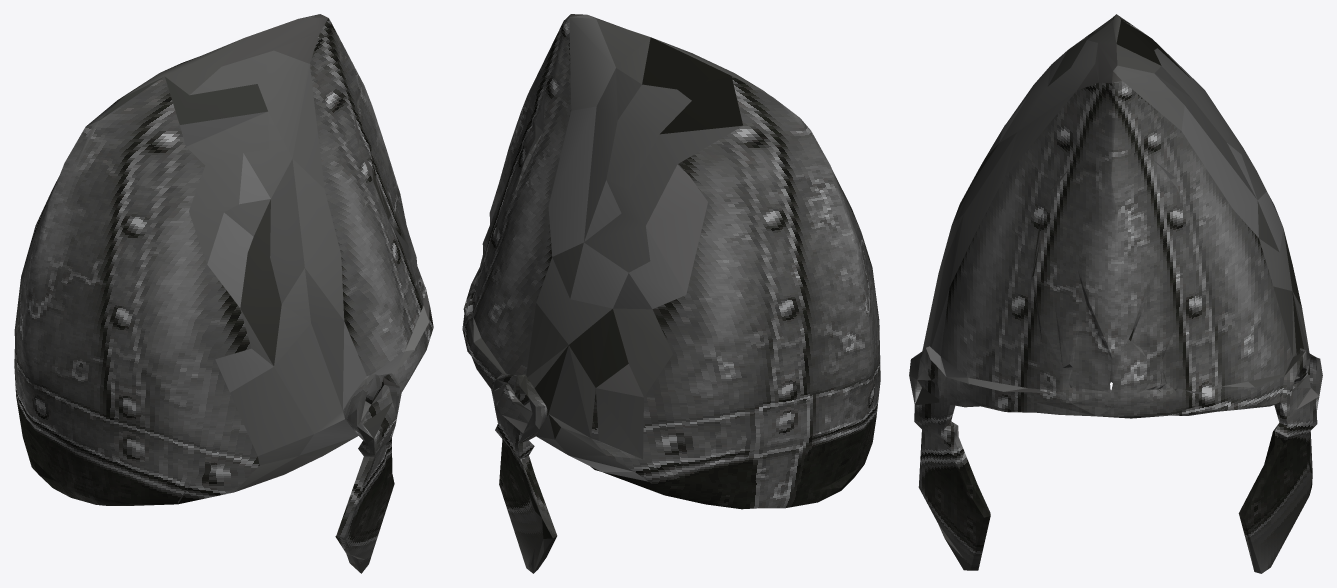
Rendered from escamas_hierro.glb.
3 renders of one model, left to right at view 1: azimuth 30°, elevation 25°; view 2: azimuth 150°, elevation 25°; view 3: azimuth 270°, elevation 25°, orthographic. The views are drawn at different scales.
Visible parts, largest first — view 1: armadura.casco.escamas_hierro; view 2: armadura.casco.escamas_hierro; view 3: armadura.casco.escamas_hierro.
Part boxes in pixels (bbox=[...]): armadura.casco.escamas_hierro: bbox=[14, 14, 433, 573]; armadura.casco.escamas_hierro: bbox=[462, 14, 880, 573]; armadura.casco.escamas_hierro: bbox=[909, 14, 1322, 573].
Bounding box in the file's own units: 0.2363 × 0.2912 × 0.2139.
Materials: 1 (1 with a texture image).
